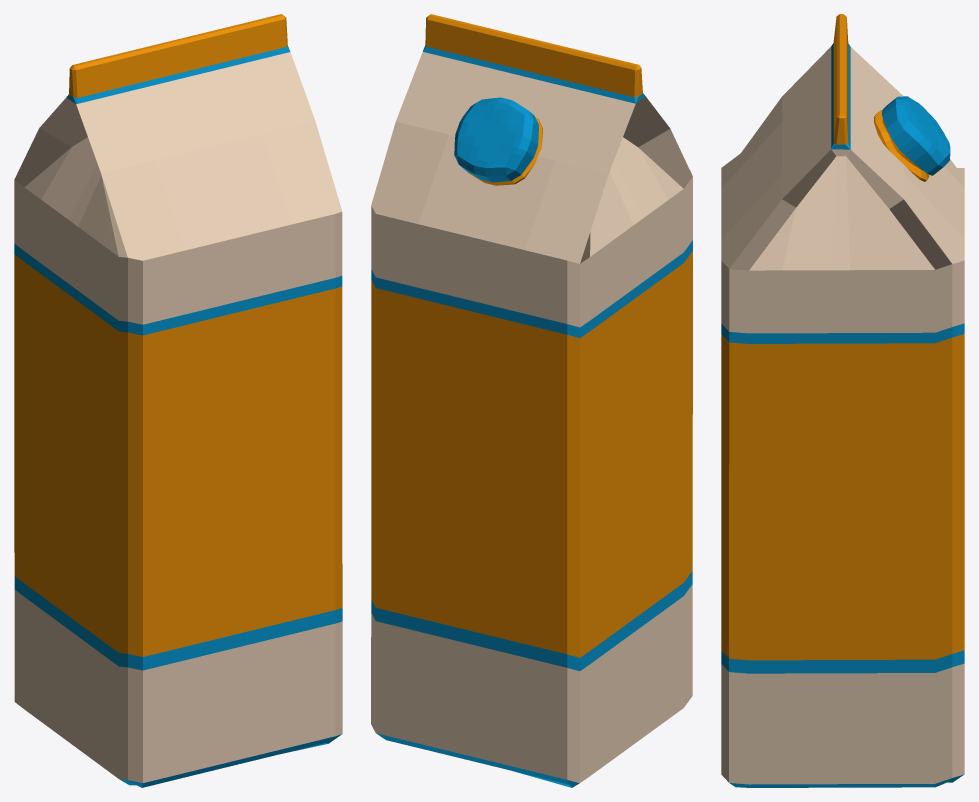
The model's file is brique_jus_orange.fbx.
The picture shows the model from 3 angles, left to right: view 1: azimuth 30°, elevation 25°; view 2: azimuth 150°, elevation 25°; view 3: azimuth 270°, elevation 25°; orthographic projection.
Visible parts, largest first — view 1: brique; view 2: brique, bouchon; view 3: brique, bouchon, bouchon.001.
Boxes of the visible parts, box(x1,y1,x2,y2) form: brique: box(14, 14, 342, 787); brique: box(371, 14, 692, 787); bouchon: box(454, 97, 538, 182); brique: box(721, 14, 964, 787); bouchon: box(882, 96, 950, 175); bouchon.001: box(874, 110, 929, 181).
Size of the model in its own units: 32.63 by 100 by 32.62.
